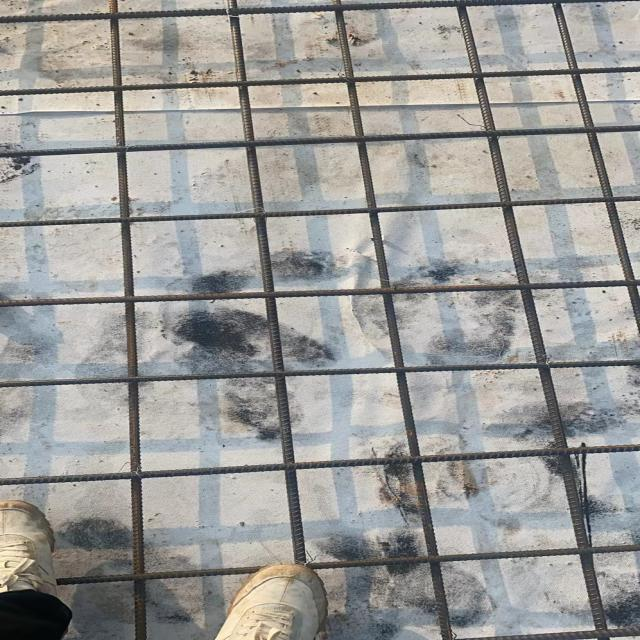ribbed bar: (455, 8, 608, 639), (331, 0, 452, 639), (225, 0, 307, 563), (551, 6, 638, 336), (0, 443, 639, 486), (108, 0, 148, 639), (54, 543, 639, 585), (0, 124, 639, 158), (0, 195, 639, 226), (0, 66, 639, 96), (0, 359, 639, 388), (0, 279, 639, 307), (0, 1, 639, 23), (459, 627, 639, 640)
